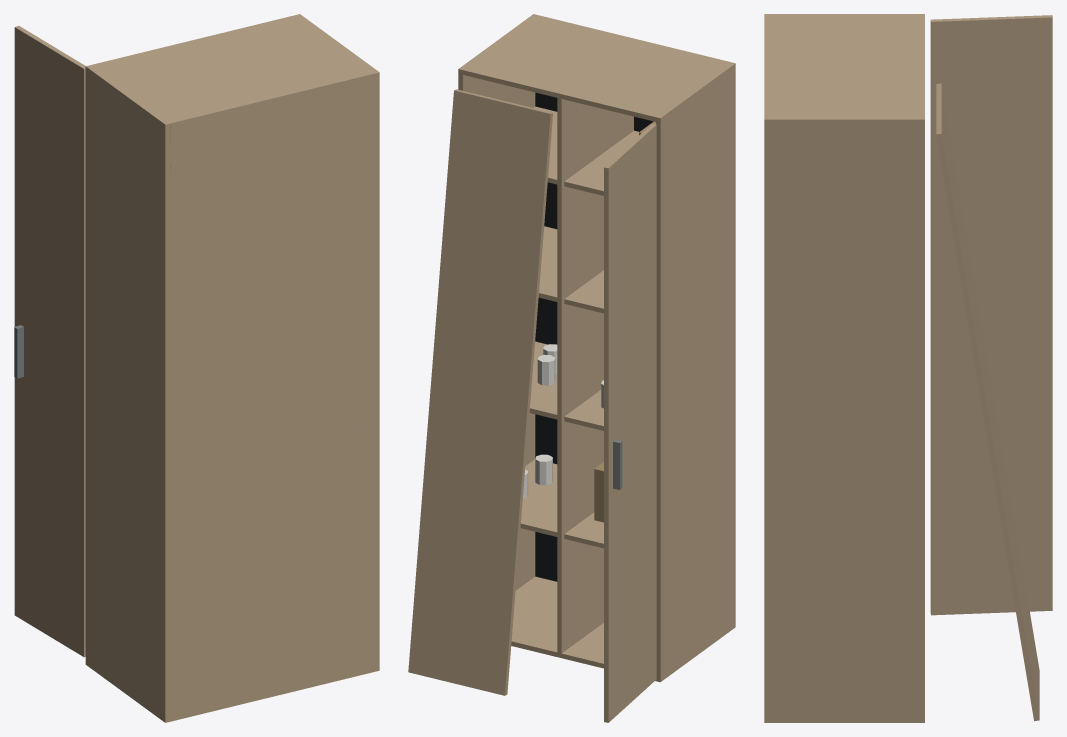
The model's file is builtin_cabinet_open.fbx.
3 views of the same model, side by side, from view 1: azimuth 30°, elevation 25°; view 2: azimuth 150°, elevation 25°; view 3: azimuth 270°, elevation 25° (orthographic). The views are drawn at different scales.
Visible parts, largest first — view 1: builtin_cabinet_open, builtin_cabinet_open_doorL; view 2: builtin_cabinet_open, builtin_cabinet_open_doorL; view 3: builtin_cabinet_open, builtin_cabinet_open_doorL.
Boxes of the visible parts, bbox=[...] form: builtin_cabinet_open: bbox=[85, 14, 379, 722]; builtin_cabinet_open_doorL: bbox=[14, 26, 85, 657]; builtin_cabinet_open: bbox=[408, 14, 735, 695]; builtin_cabinet_open_doorL: bbox=[604, 124, 656, 722]; builtin_cabinet_open: bbox=[764, 14, 1039, 722]; builtin_cabinet_open_doorL: bbox=[930, 15, 1052, 615].
Size of the model in its own units: 0.9597 by 2.4 by 1.04.
